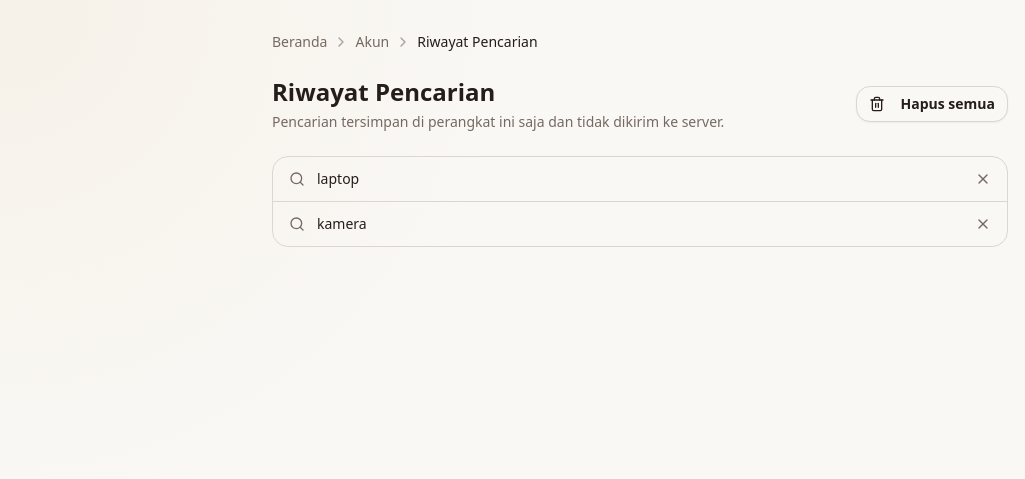
Test: search history page › clears the whole history
The image size is (1025, 479).
Click the button "Hapus semua": (932, 104) [856, 86, 1008, 122]
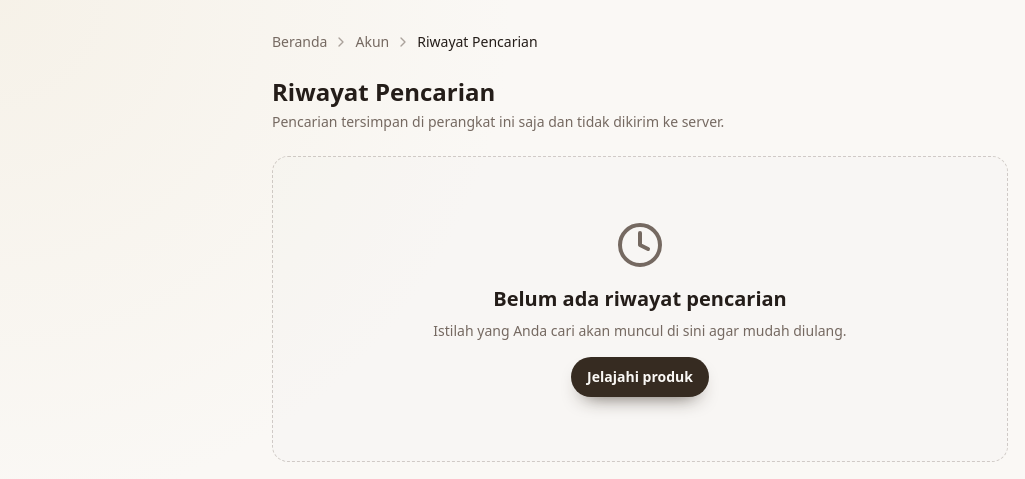
Expected: the heading "Belum ada riwayat pencarian" is shown, [493, 285, 787, 312]
